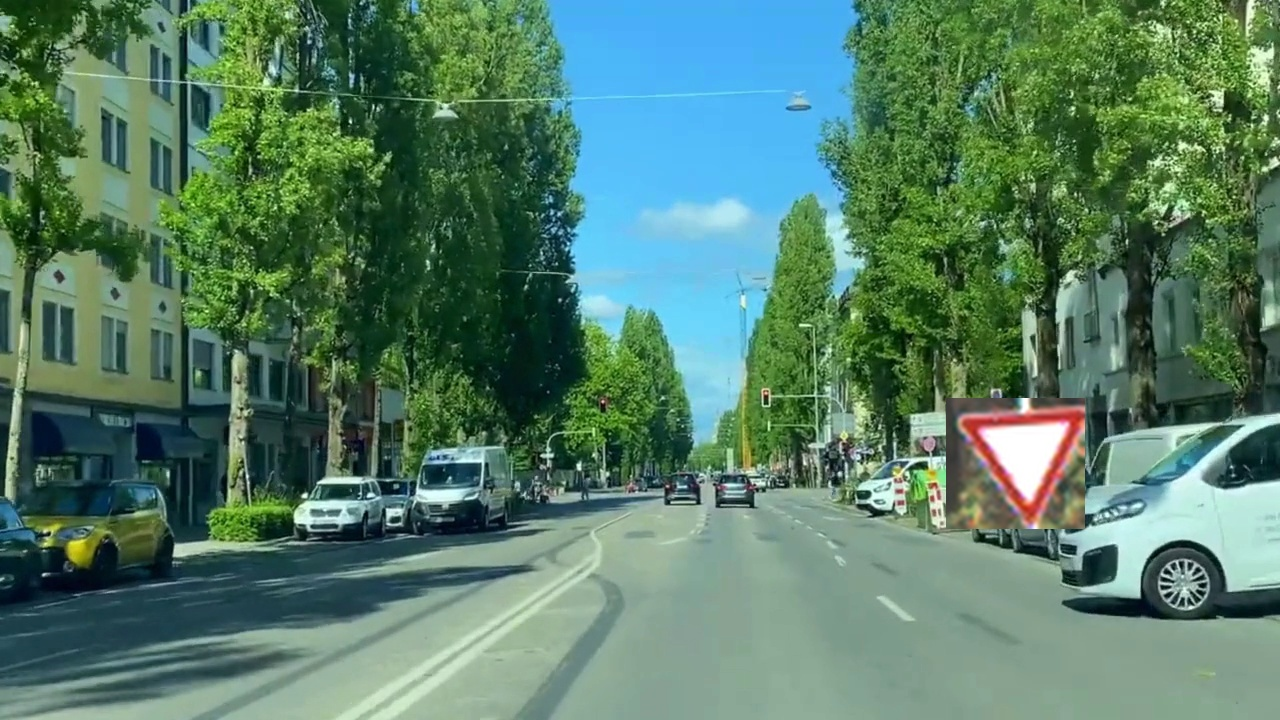Yield: (946, 398, 1085, 529)
